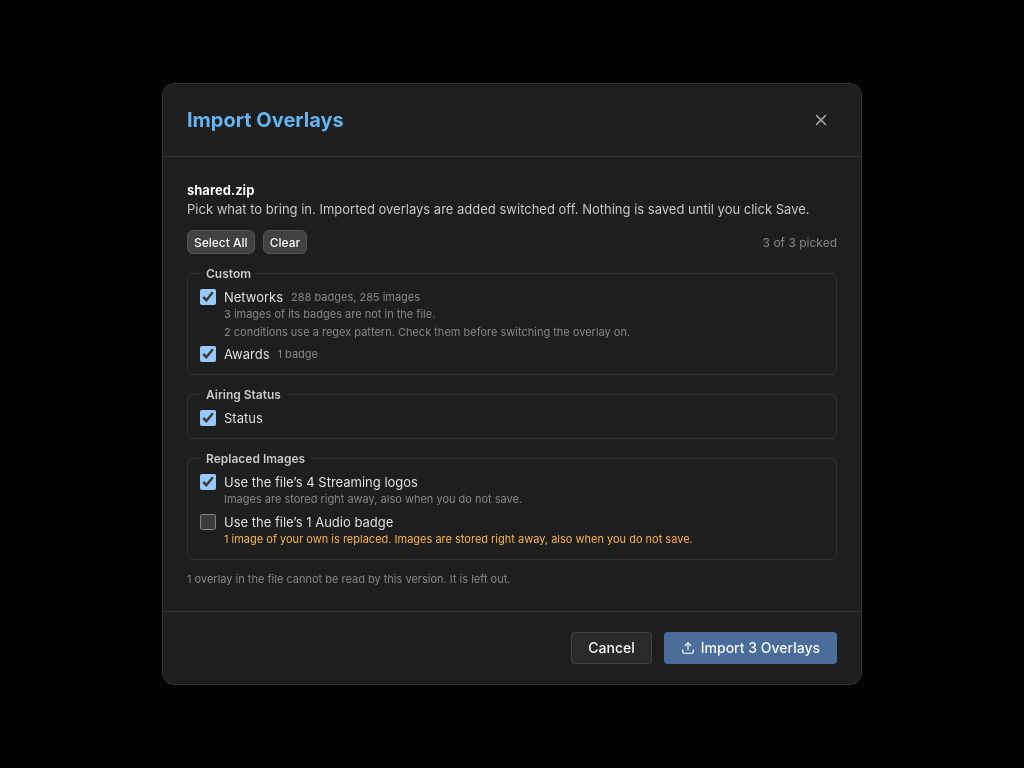
it: OverlayImportDialog › imports images alone, nothing at all is not offered, and a failure is said
The width and height of the screenshot is (1024, 768).
Click the button "Clear". click: (285, 242)
box: [263,230,307,254]
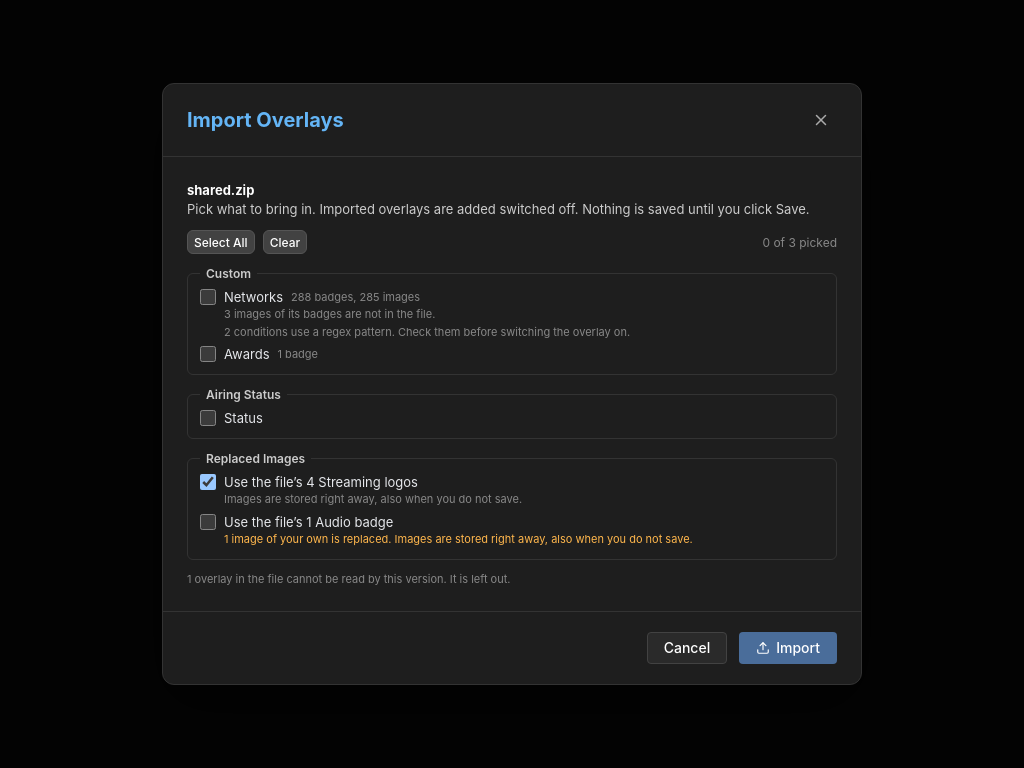
expect the text "0 of 3 picked" is shown: met, box [762,235,837,250]
Click the checkbox labelled "Use the file’s 4 Streaming logos". click: (208, 482)
box: [200,474,216,490]
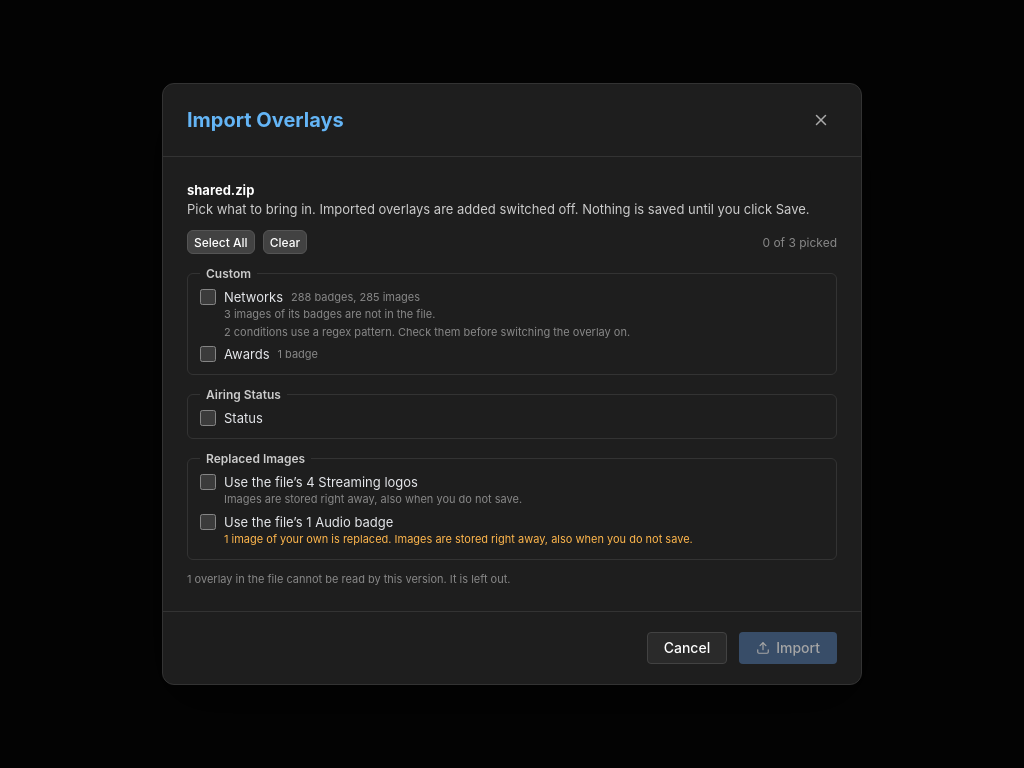
expect the button "Import" is disabled: met, box [739,632,837,664]
Click the checkbox labelled "Use the file’s 4 Streaming logos". click: (208, 482)
box: [200,474,216,490]
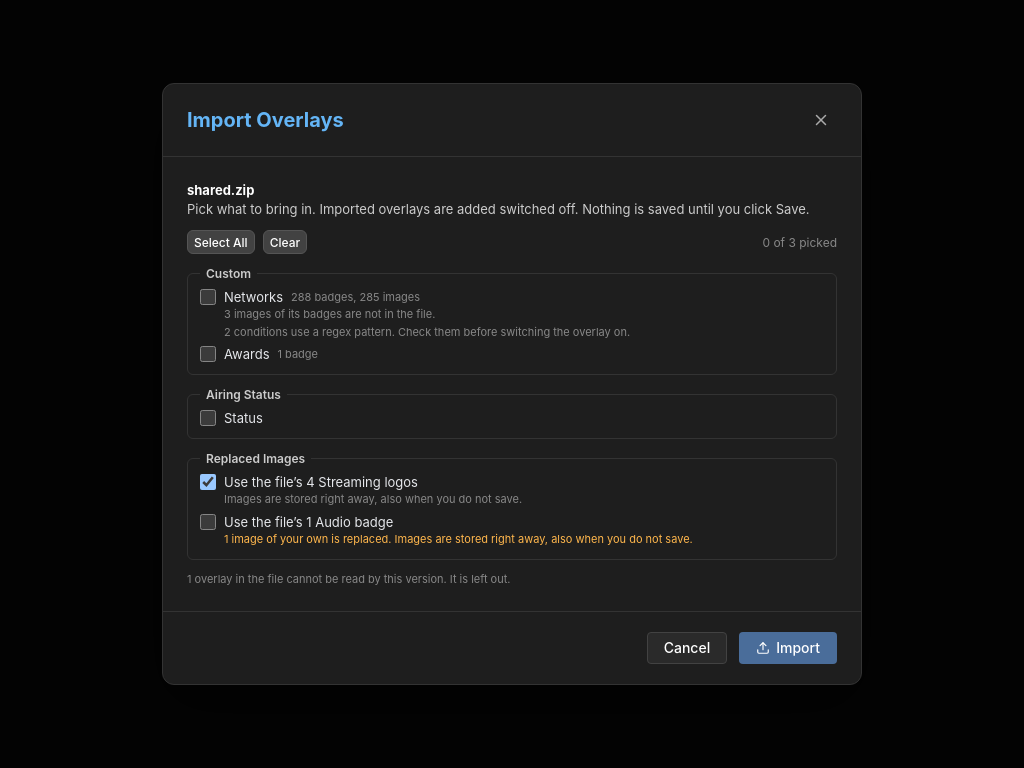
Click the button "Import". click: (788, 648)
box: [739,632,837,664]
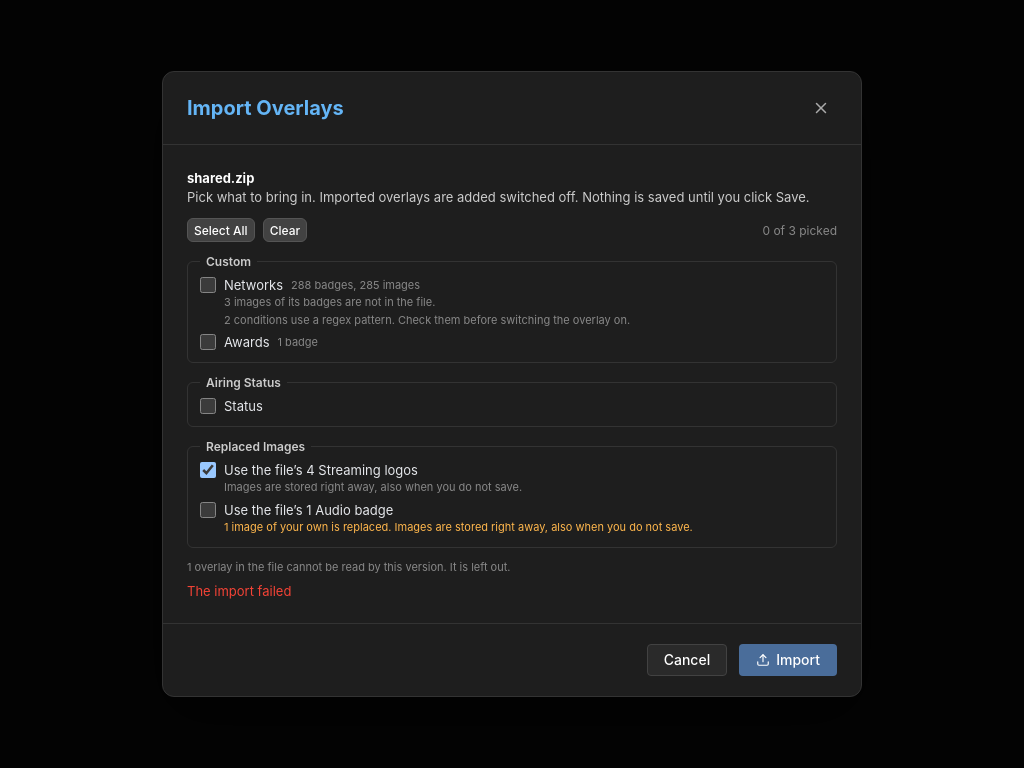
expect the message reads "The import failed": met, box [187,583,291,599]
